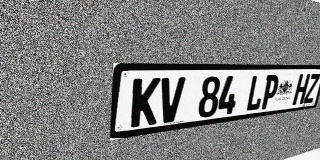4: (216, 76, 240, 116)
8: (197, 76, 222, 118)
H: (292, 74, 310, 105)
K: (130, 78, 161, 128)
L: (245, 75, 267, 112)
P: (260, 75, 280, 110)
V: (157, 77, 186, 124)
Z: (303, 74, 320, 104)
